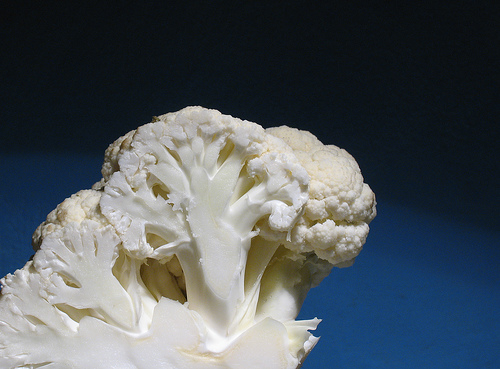cauliflower: (1, 104, 377, 368)
